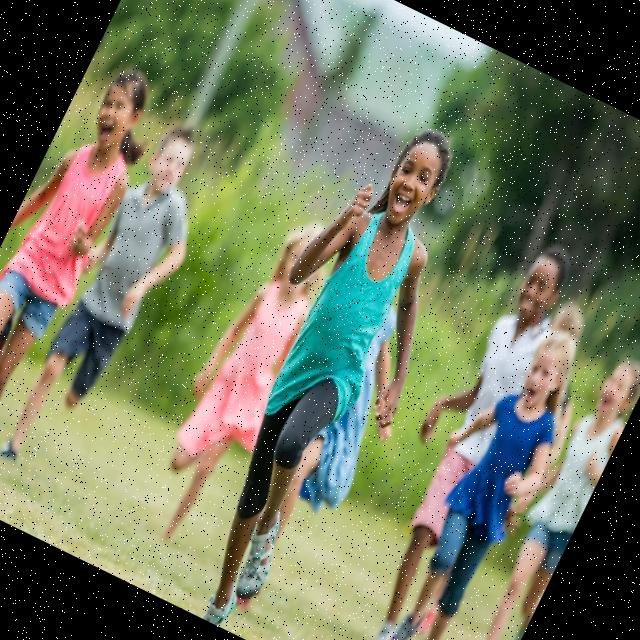Person: (136, 97, 516, 640), (319, 226, 581, 640), (0, 112, 237, 490), (348, 308, 604, 640), (127, 204, 345, 548), (0, 52, 174, 473), (459, 347, 640, 640)
